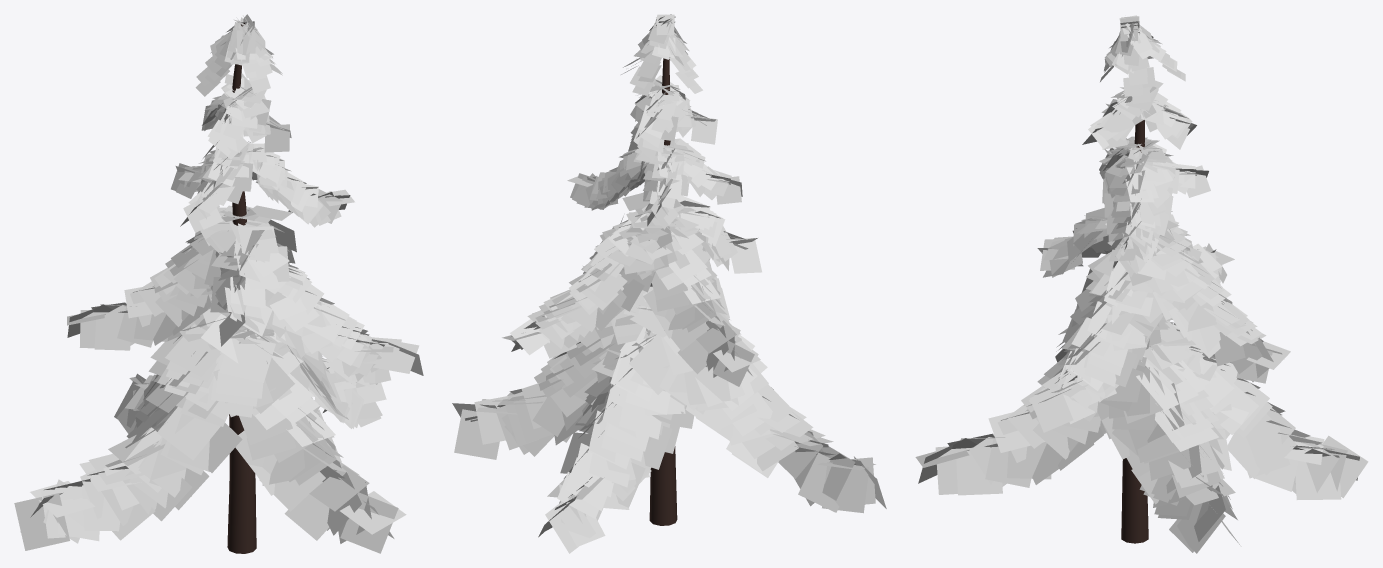
Rendered from SpruceTreeLarge3.fbx.
The picture shows the model from 3 angles, left to right: view 1: azimuth 30°, elevation 25°; view 2: azimuth 150°, elevation 25°; view 3: azimuth 270°, elevation 25°; orthographic projection. The views are drawn at different scales.
Visible parts, largest first — view 1: SpruceTreeLarge3; view 2: SpruceTreeLarge3; view 3: SpruceTreeLarge3.
Part boxes in pixels (x1,y1,x2,y2): SpruceTreeLarge3: [14, 14, 423, 553]; SpruceTreeLarge3: [452, 14, 886, 553]; SpruceTreeLarge3: [915, 15, 1368, 553].
Bounding box in the file's own units: 1976 × 2488 × 1963.
